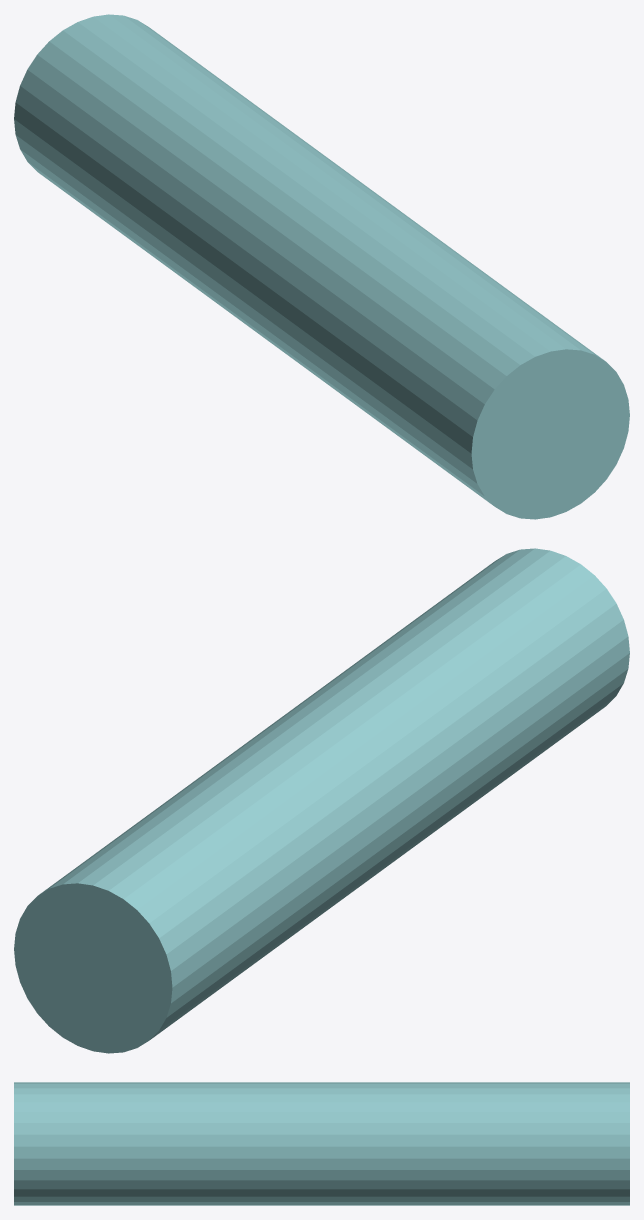
The picture shows the model from 3 angles, top to bottom: view 1: azimuth 30°, elevation 25°; view 2: azimuth 150°, elevation 25°; view 3: azimuth 270°, elevation 25°; orthographic projection. The views are drawn at different scales.
Visible parts, largest first — view 1: cylinder_1; view 2: cylinder_1; view 3: cylinder_1.
Part boxes in pixels (box(x1,y1,x2,y2)): cylinder_1: box(14, 14, 629, 519); cylinder_1: box(14, 548, 629, 1053); cylinder_1: box(14, 1082, 629, 1205).
Size of the model in its own units: 0.06 by 0.06 by 0.3.
